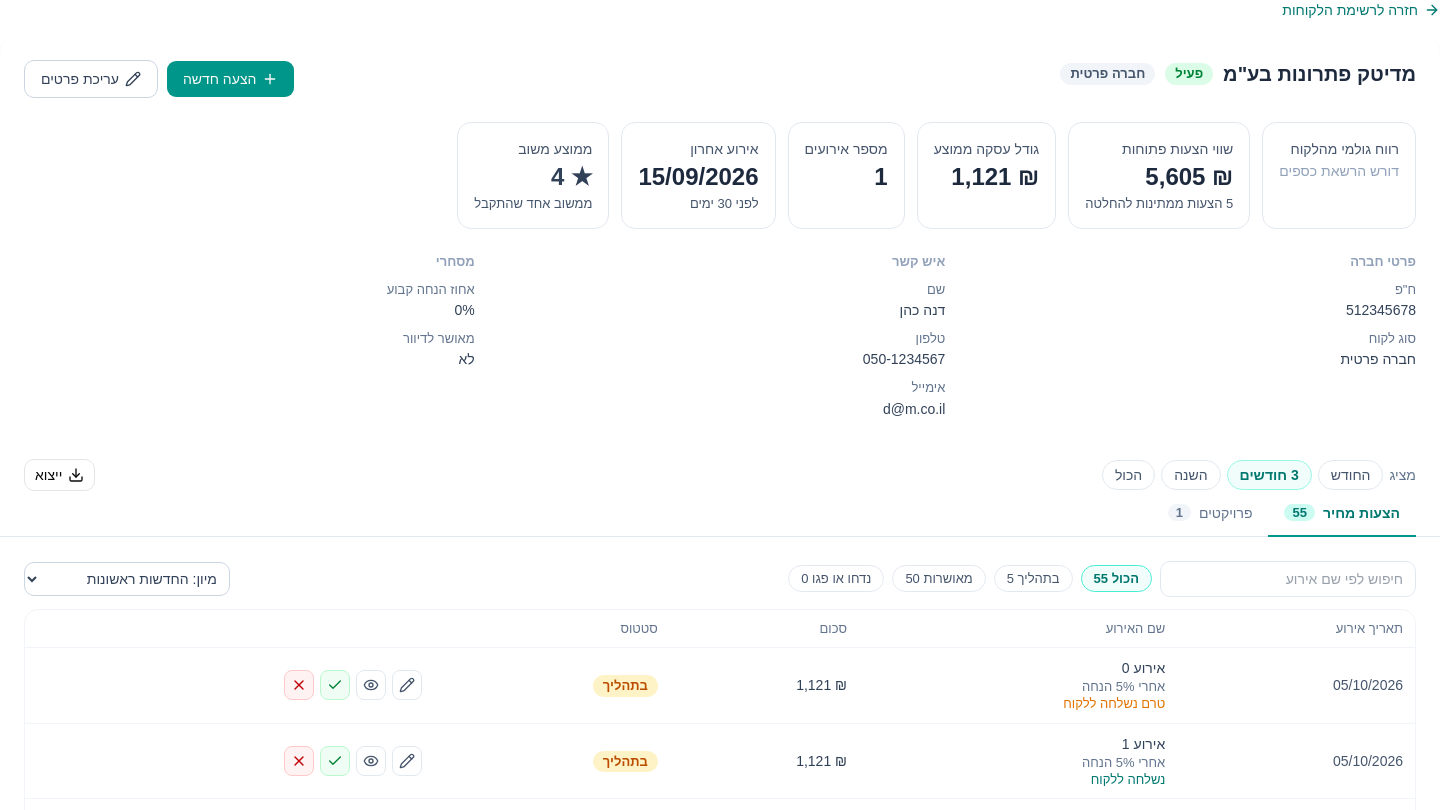
it: CustomerDetailsPage — חיבור לחלון-הייצוא › שורת-הכמות סופרת את כל ההצעות שבמסנן — 55 הצעות כשהעמוד מציג 50, ומסנן-סטטוס מקטין
Step 1. Click the button with test id "customer-export-button" → [60, 475], box [24,459,95,491]
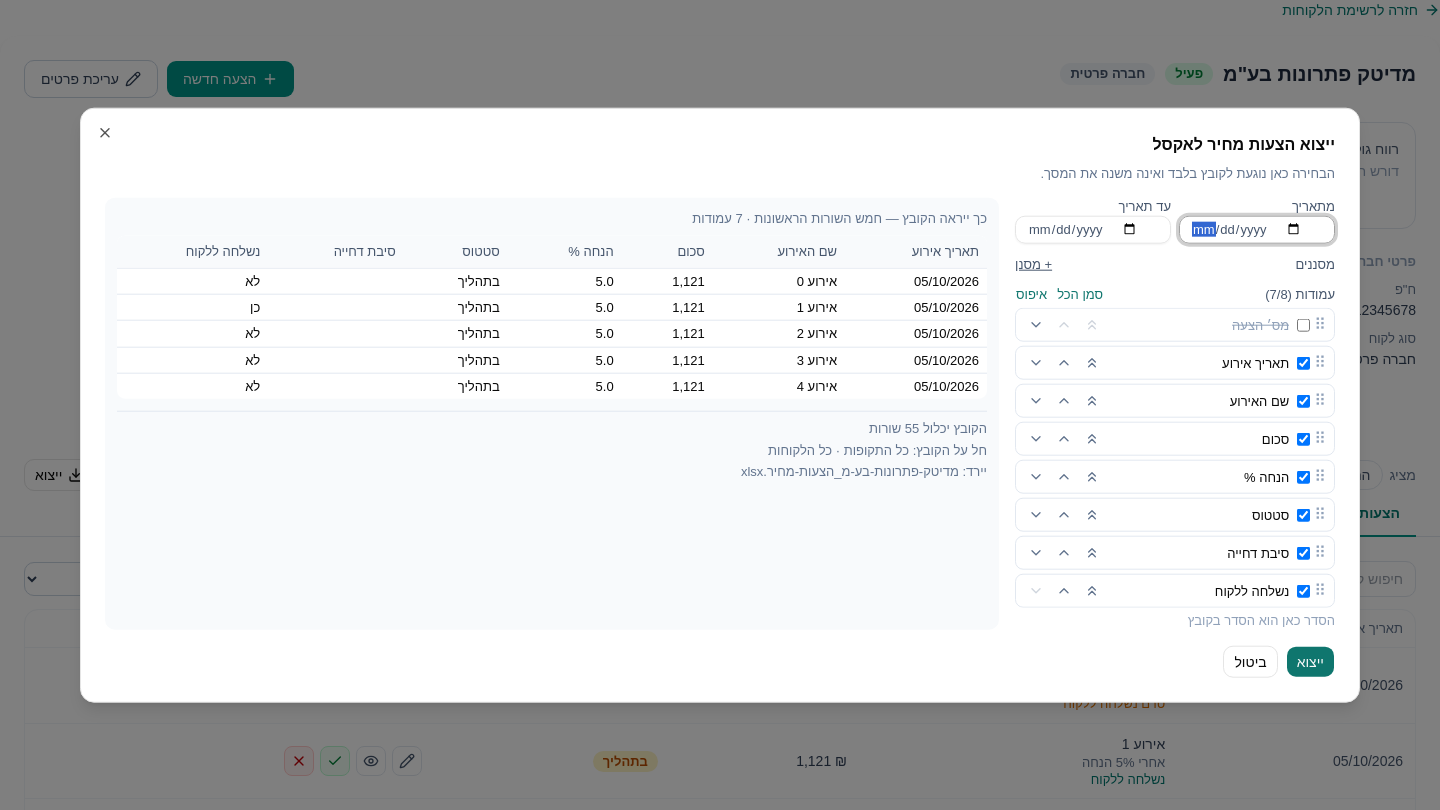
Check: the text with test id "export-count" shows "55 שורות", box [869,421,987,436]
Step 2. Press Escape in the date field labelled "מתאריך", box [1179,215,1335,243]
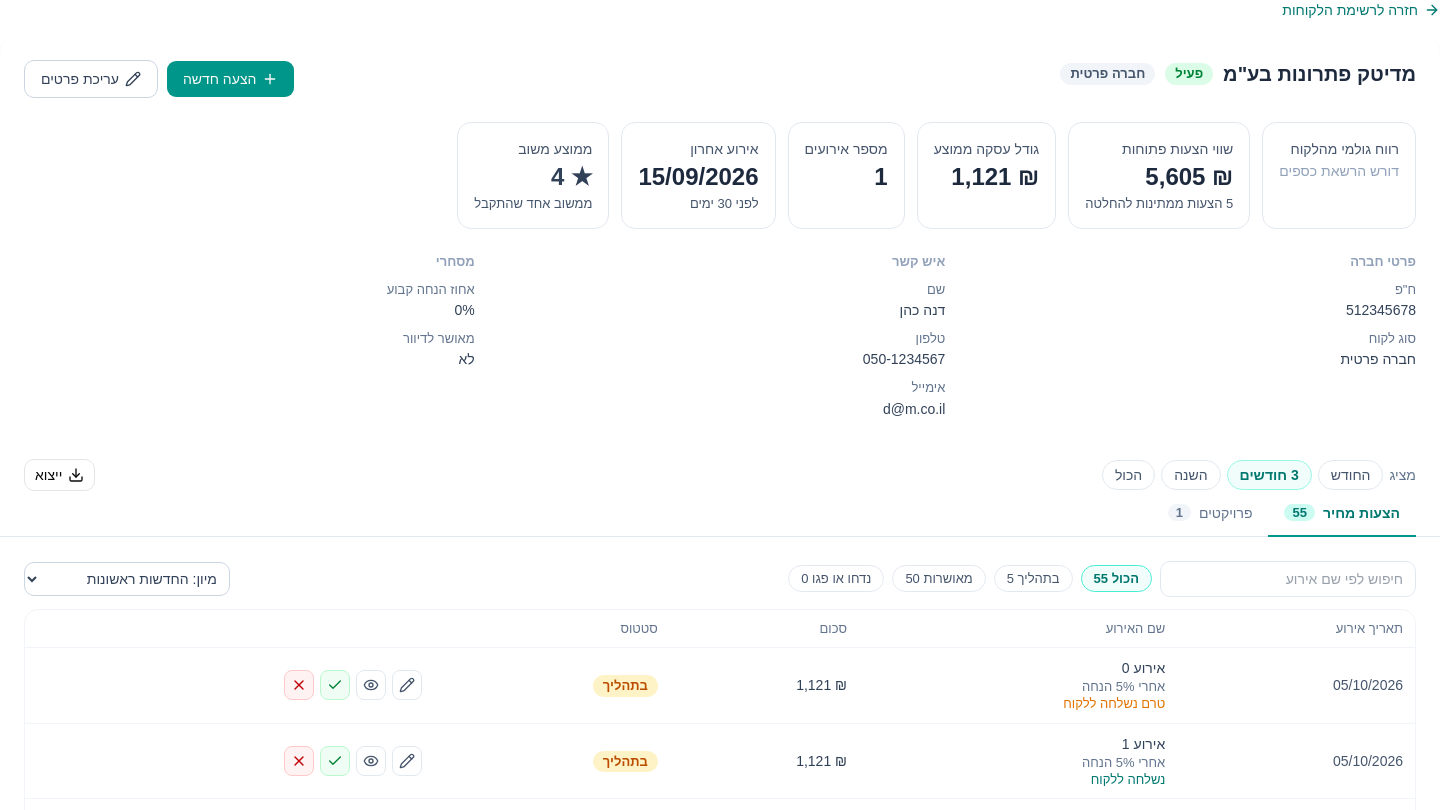
Check: the button with test id "customer-quotes-chip-rejected" shows "נדחו או פגו", box [788,565,884,592]
Step 3. Click the button with test id "customer-quotes-chip-in_progress" → [1033, 579], box [994,565,1073,592]
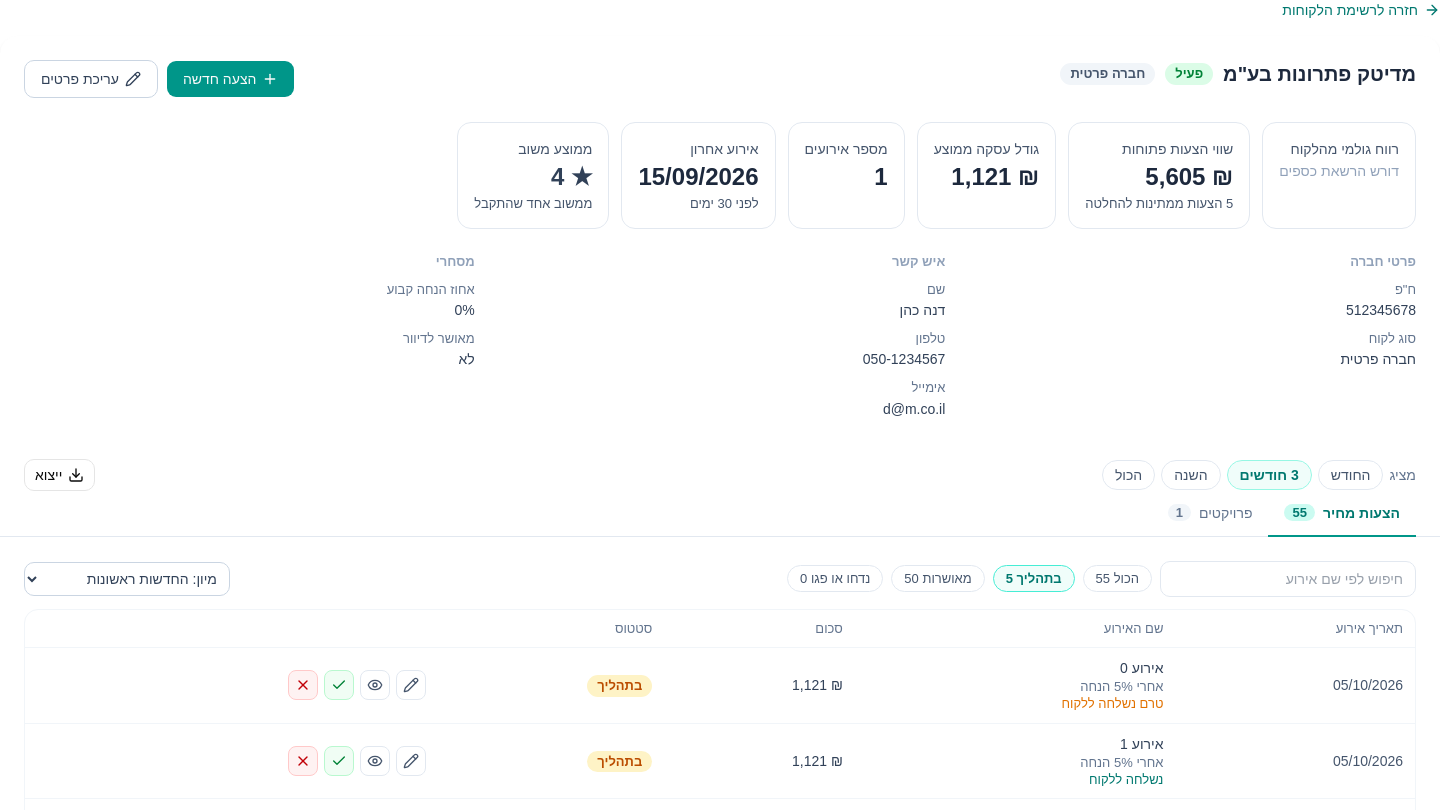
Step 4. Click the button with test id "customer-export-button" → [60, 475], box [24,459,95,491]
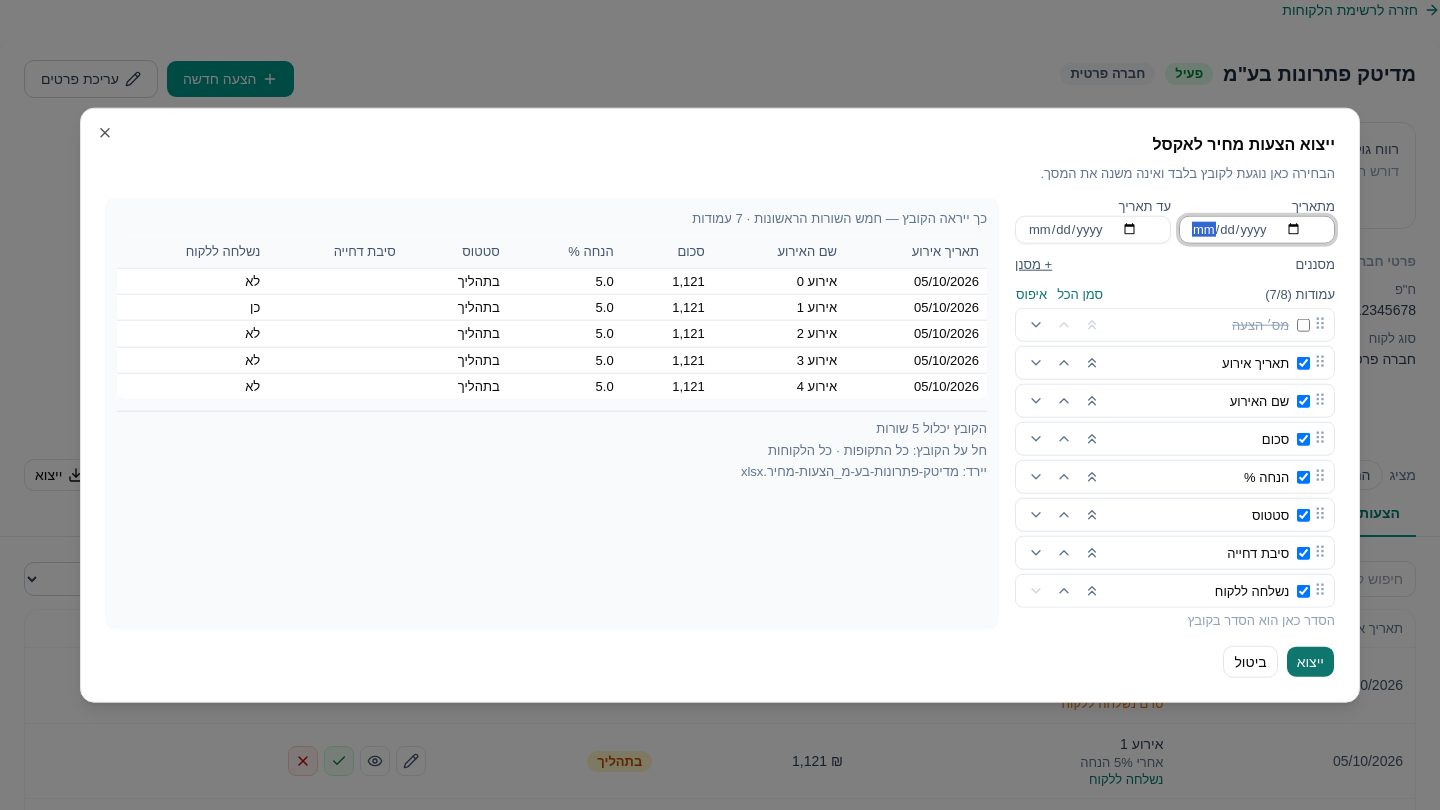
Check: the text with test id "export-count" shows "5 שורות", box [876,421,987,436]
